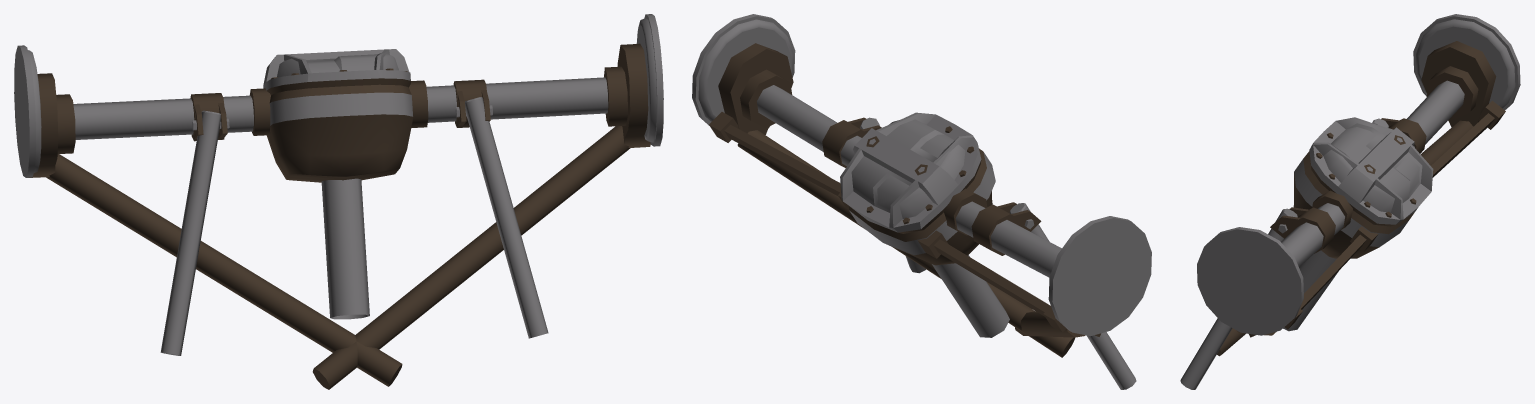
The model's file is DefaultSuspension.fbx.
The picture shows the model from 3 angles, left to right: view 1: azimuth 30°, elevation 25°; view 2: azimuth 150°, elevation 25°; view 3: azimuth 270°, elevation 25°; orthographic projection. The views are drawn at different scales.
Parts seen in each view (by area): view 1: node_id346, node_id348; view 2: node_id348, node_id346; view 3: node_id348, node_id346.
Boxes of the visible parts, x1=… form: node_id346: x1=29, y1=43, x2=650, y2=389; node_id348: x1=14, y1=14, x2=663, y2=355; node_id348: x1=692, y1=14, x2=1151, y2=389; node_id346: x1=709, y1=43, x2=1100, y2=357; node_id348: x1=1180, y1=14, x2=1520, y2=389; node_id346: x1=1217, y1=41, x2=1505, y2=356.
Size of the model in its own units: 0.5121 by 0.2496 by 0.3142.
Materials: 2 (2 with a texture image).
